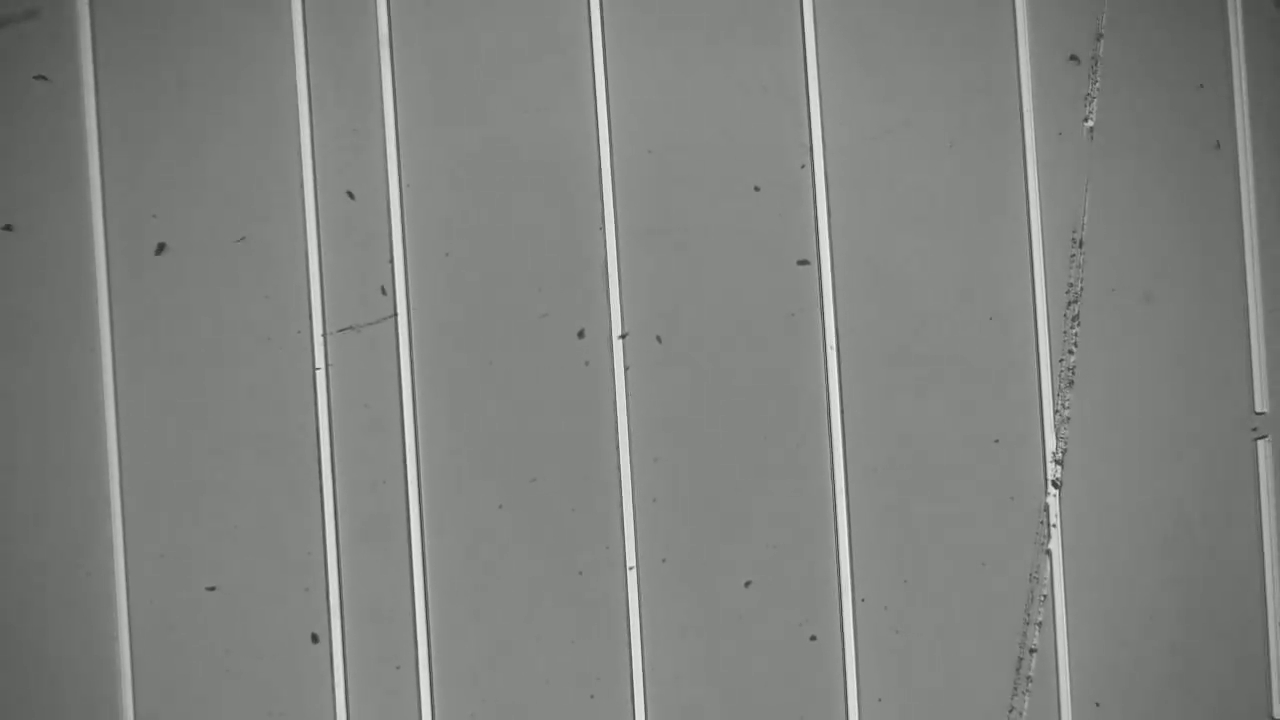open: (1240, 381, 1280, 463)
scratch: (1000, 14, 1101, 716), (328, 297, 397, 343)
